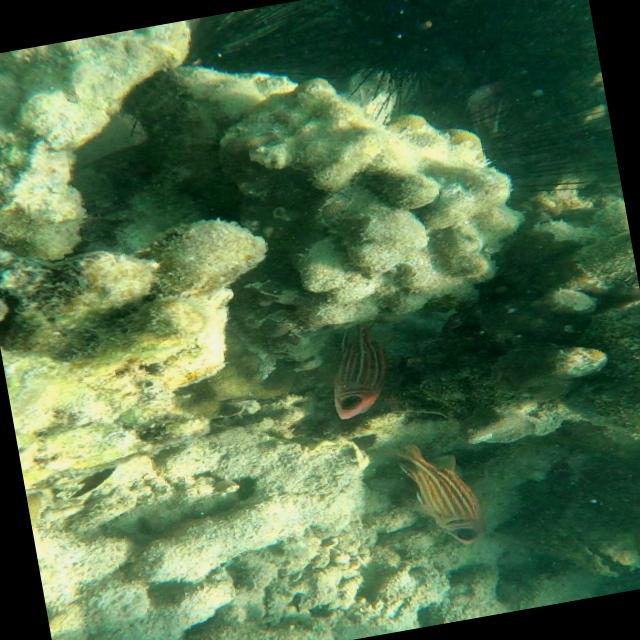Asker Baligi: (377, 424, 505, 564), (304, 315, 416, 430)
